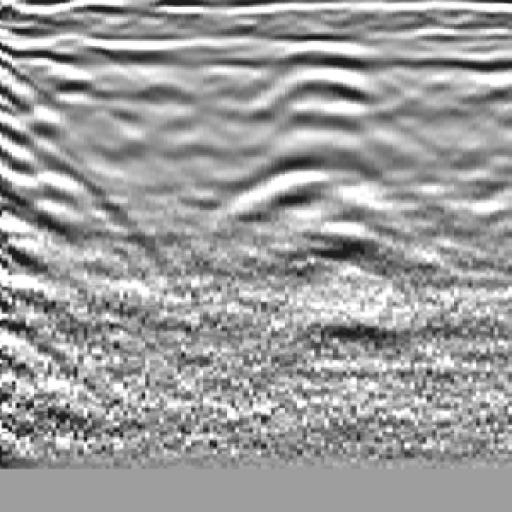metalic: (230, 28, 401, 281)
nonmetalic: (1, 27, 97, 284)
